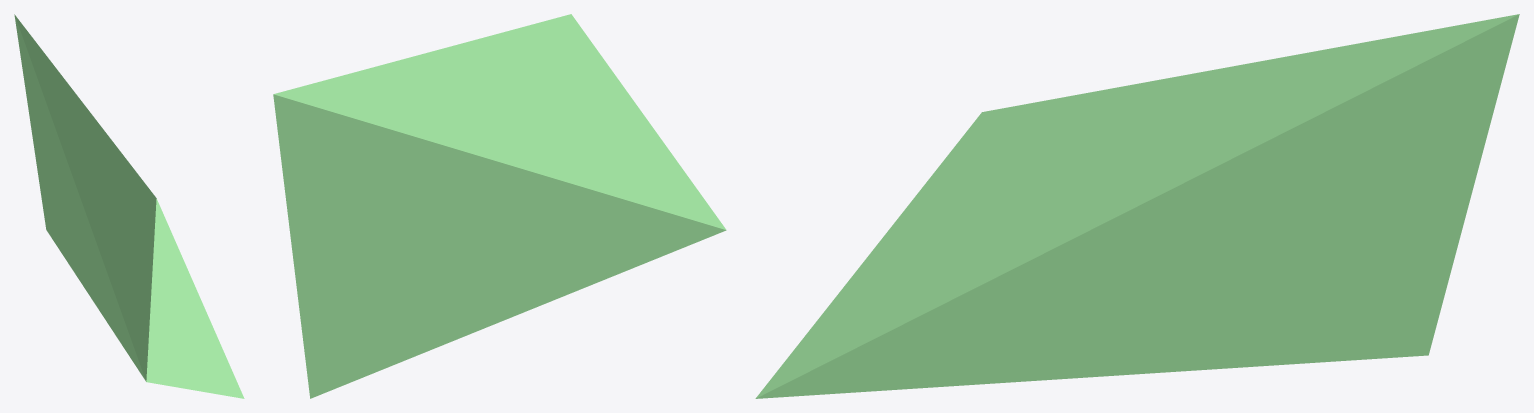
Rendered from linkhou_LR4_R560_link6_respondable_coll_13.dae.
The picture shows the model from 3 angles, left to right: view 1: azimuth 30°, elevation 25°; view 2: azimuth 150°, elevation 25°; view 3: azimuth 270°, elevation 25°; orthographic projection. The views are drawn at different scales.
Parts seen in each view (by area): view 1: Node_00000209DB3AB9C0; view 2: Node_00000209DB3AB9C0; view 3: Node_00000209DB3AB9C0.
Boxes of the visible parts, x1,y1,x2,y2 form: Node_00000209DB3AB9C0: (14, 14, 244, 398); Node_00000209DB3AB9C0: (273, 14, 726, 398); Node_00000209DB3AB9C0: (755, 14, 1519, 398).
Bounding box in the file's own units: 0.00299 × 0.00885 × 0.0161.
